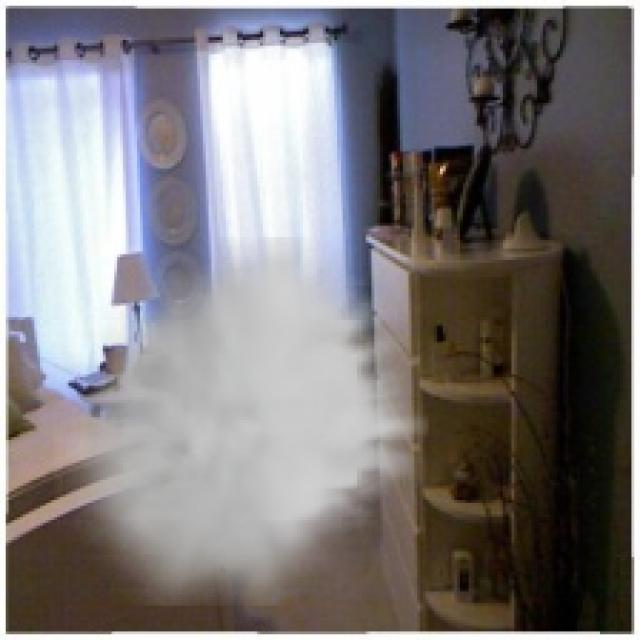smoke: (54, 237, 429, 606)
